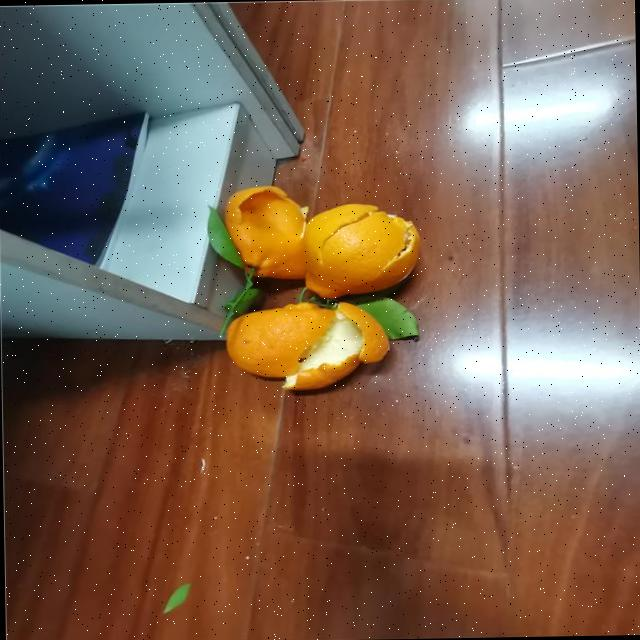orange-peel: (217, 180, 423, 392), (301, 200, 421, 298), (222, 182, 308, 280)
